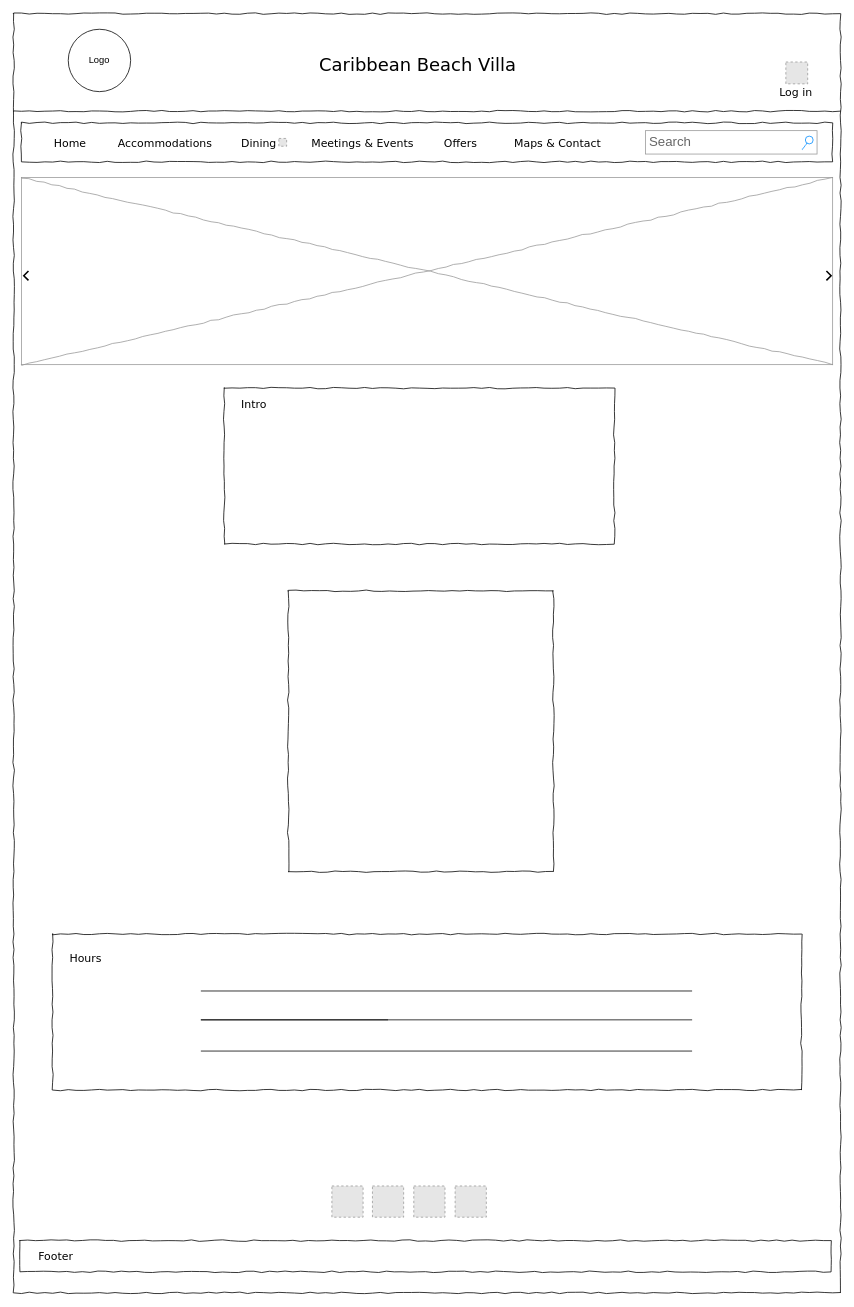
This 854x1307 diagram has some shape labels left out. Grey dashed boxes stand in for pictures. Here are the shapes that lost their labels. From the top down, the centre of each, then its label:
At point 427,271: "Slideshow (Exterior & Interior pics)".
At point 420,731: "Menu".
